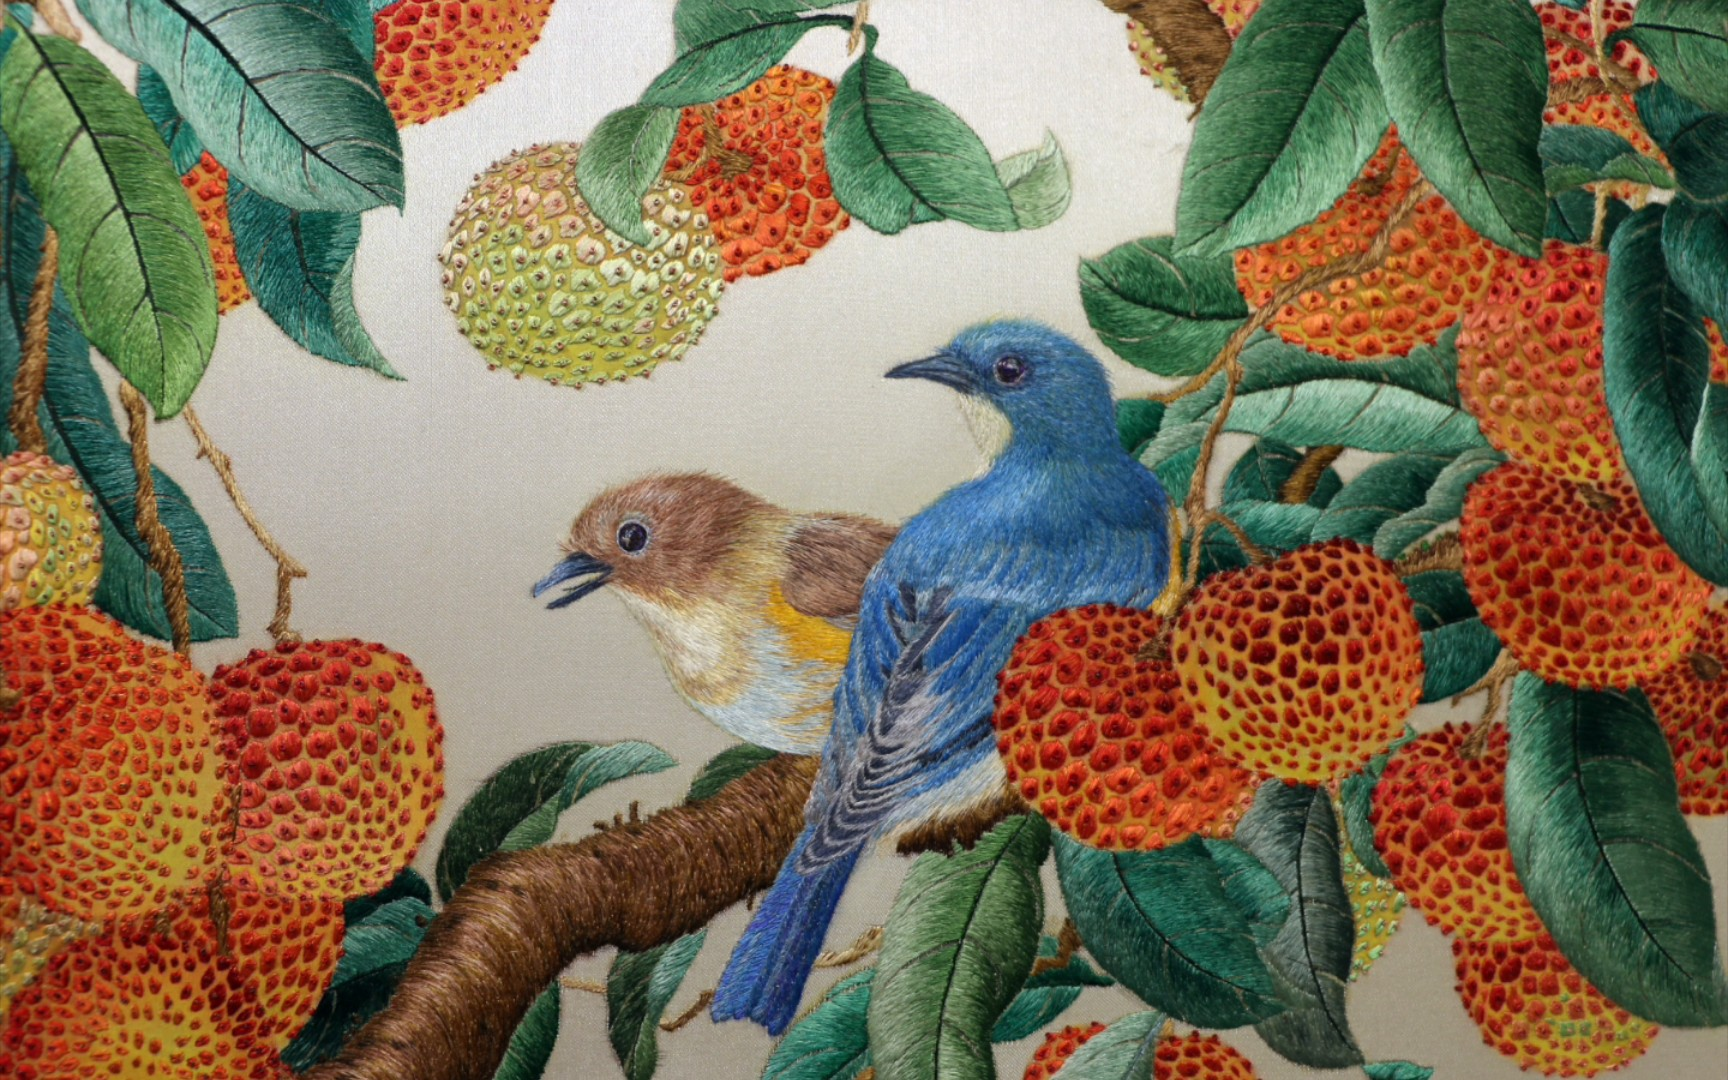bird: (709, 314, 1164, 1043), (515, 467, 904, 755)
lychee: (1, 597, 231, 916), (440, 143, 723, 388), (197, 635, 447, 895), (996, 603, 1259, 851), (1229, 112, 1492, 360), (1167, 534, 1424, 779), (1457, 454, 1716, 687), (1452, 859, 1665, 1078), (2, 915, 280, 1080), (1457, 240, 1642, 473), (656, 63, 855, 274), (1368, 715, 1556, 932), (156, 862, 346, 1038), (1521, 2, 1670, 199), (365, 2, 557, 124), (1636, 587, 1728, 820), (1, 445, 106, 633), (1112, 1, 1273, 105), (169, 147, 272, 304), (1028, 1019, 1263, 1080), (1341, 834, 1405, 980)
